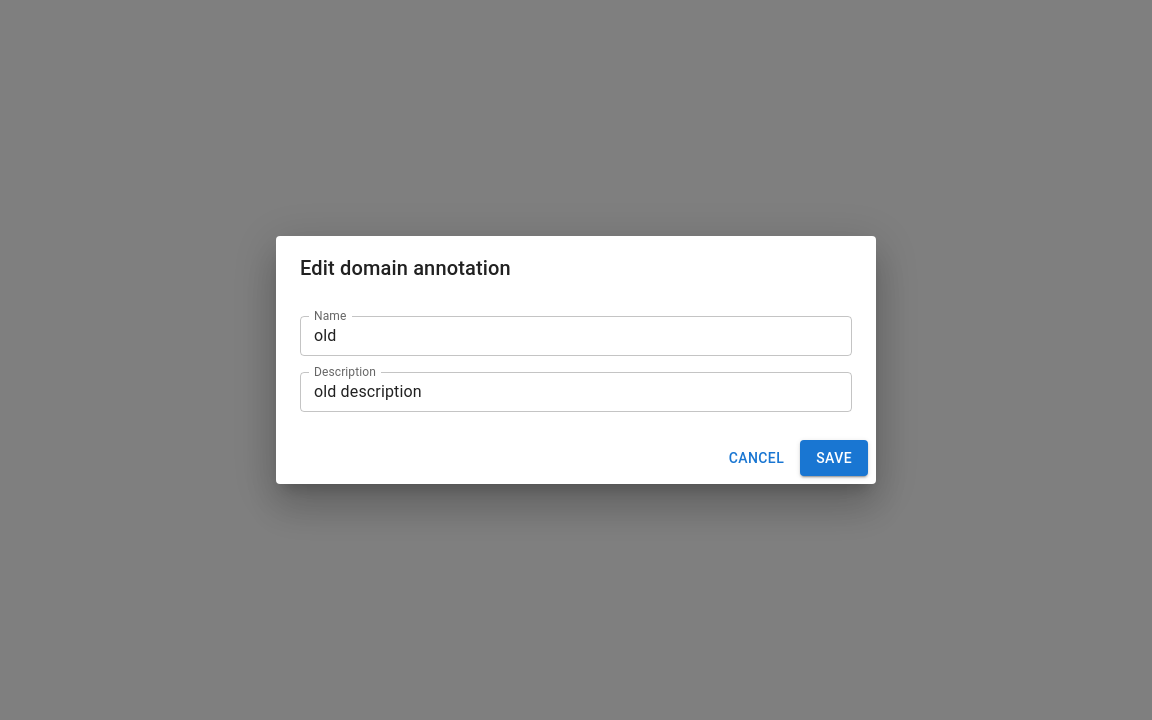
Scenario: DomainAnnotationDialog › in edit mode, picking a different domain re-fills the description
Replace the text in the dropdown labelled "Name" with "AESI" at (560, 336), box [306, 322, 813, 350]
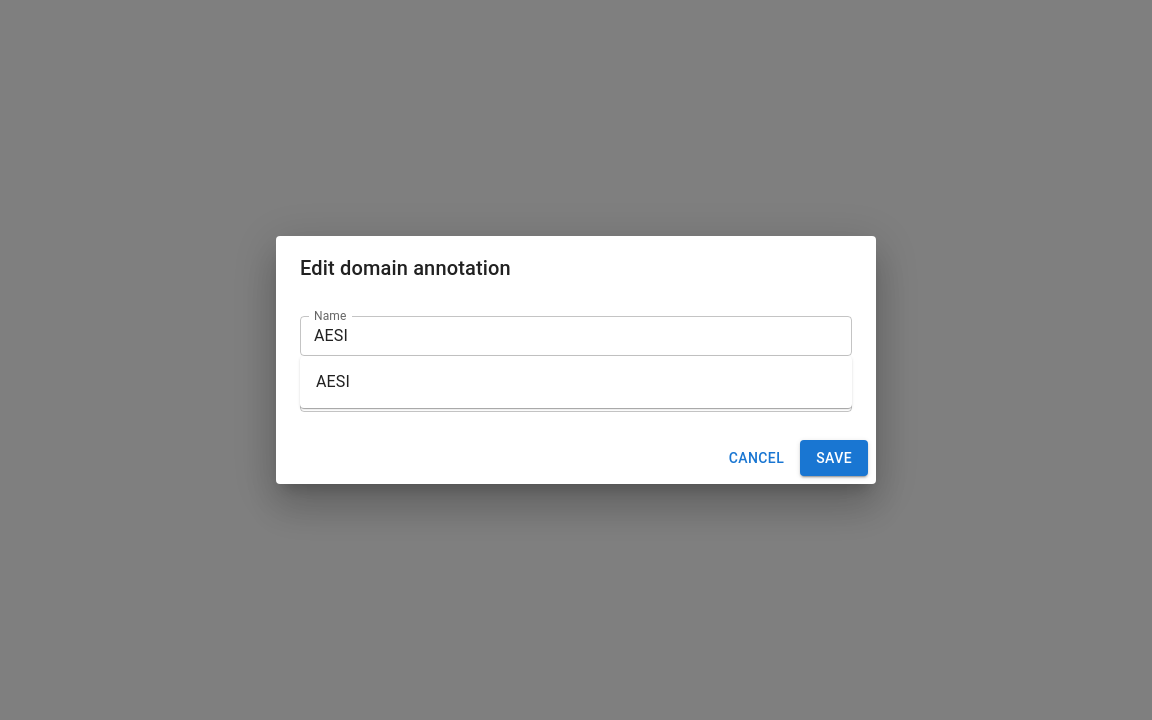
Press ArrowDown in the dropdown labelled "Name", box [306, 322, 813, 350]
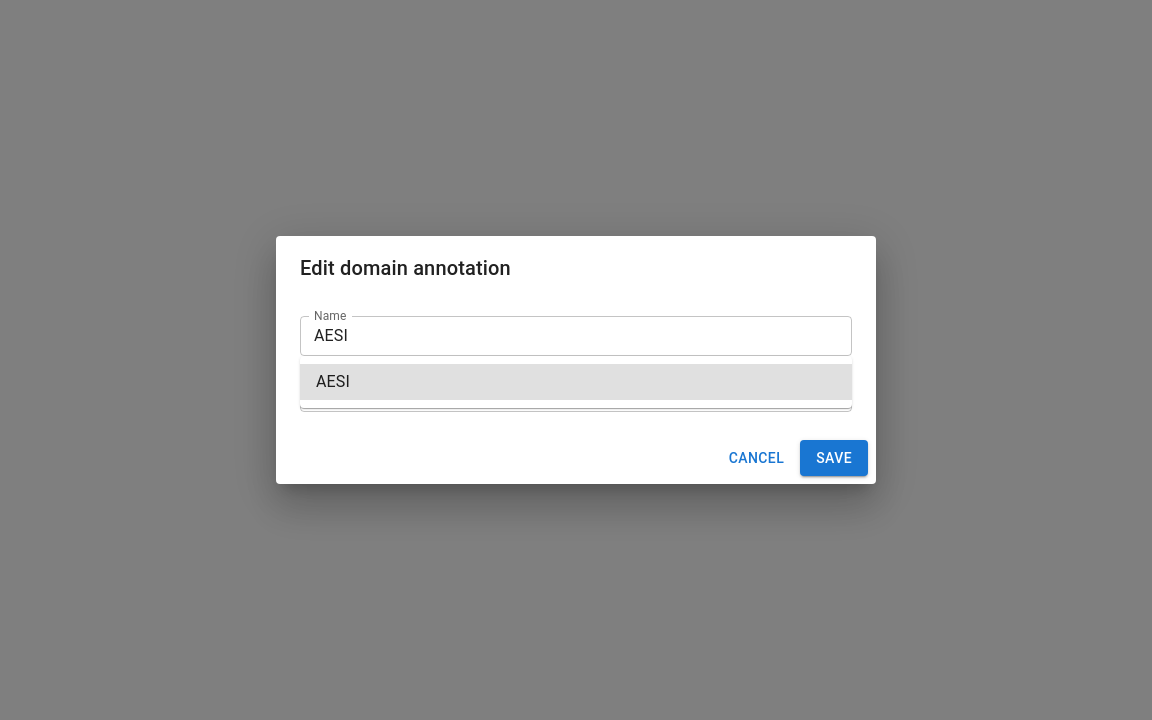
Click the option "AESI" at (333, 382), box [300, 364, 852, 400]
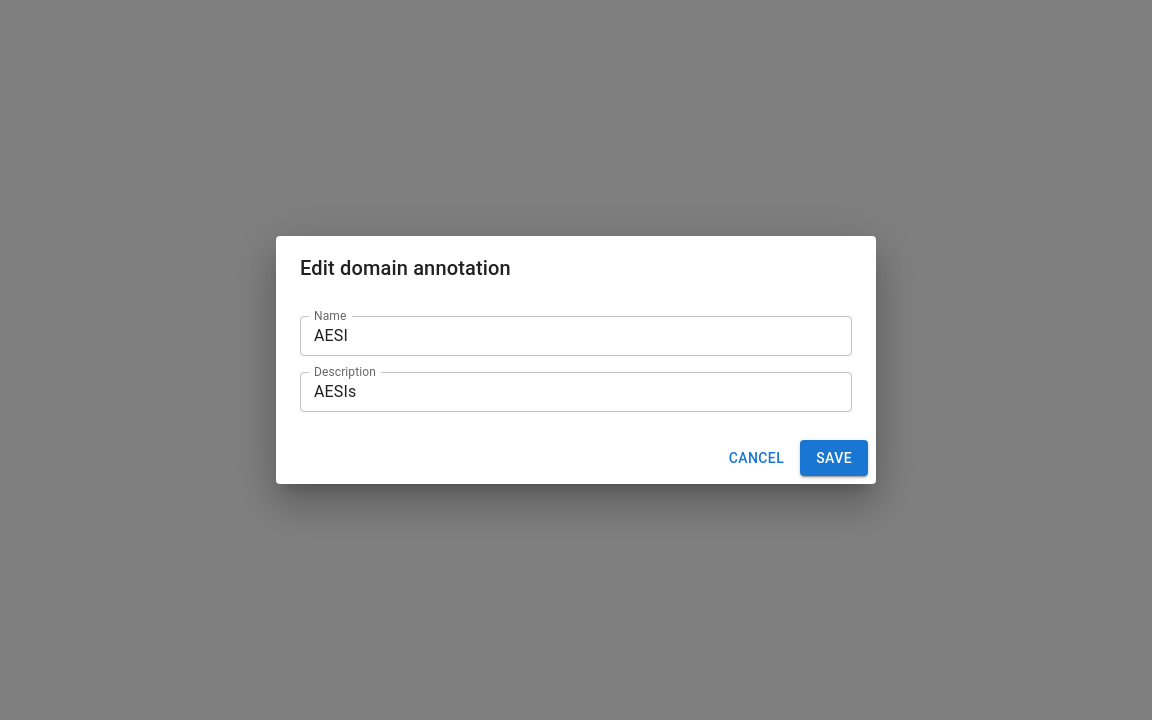
expect the field labelled "Description" holds "AESIs": met, box [300, 372, 852, 412]
